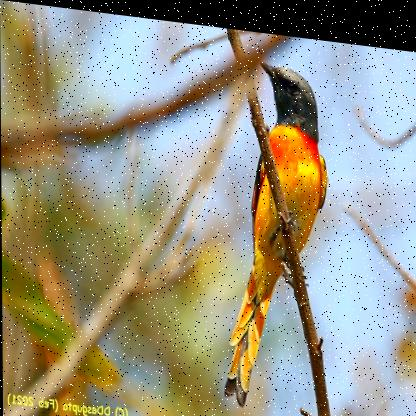Burung: (222, 52, 329, 408)
